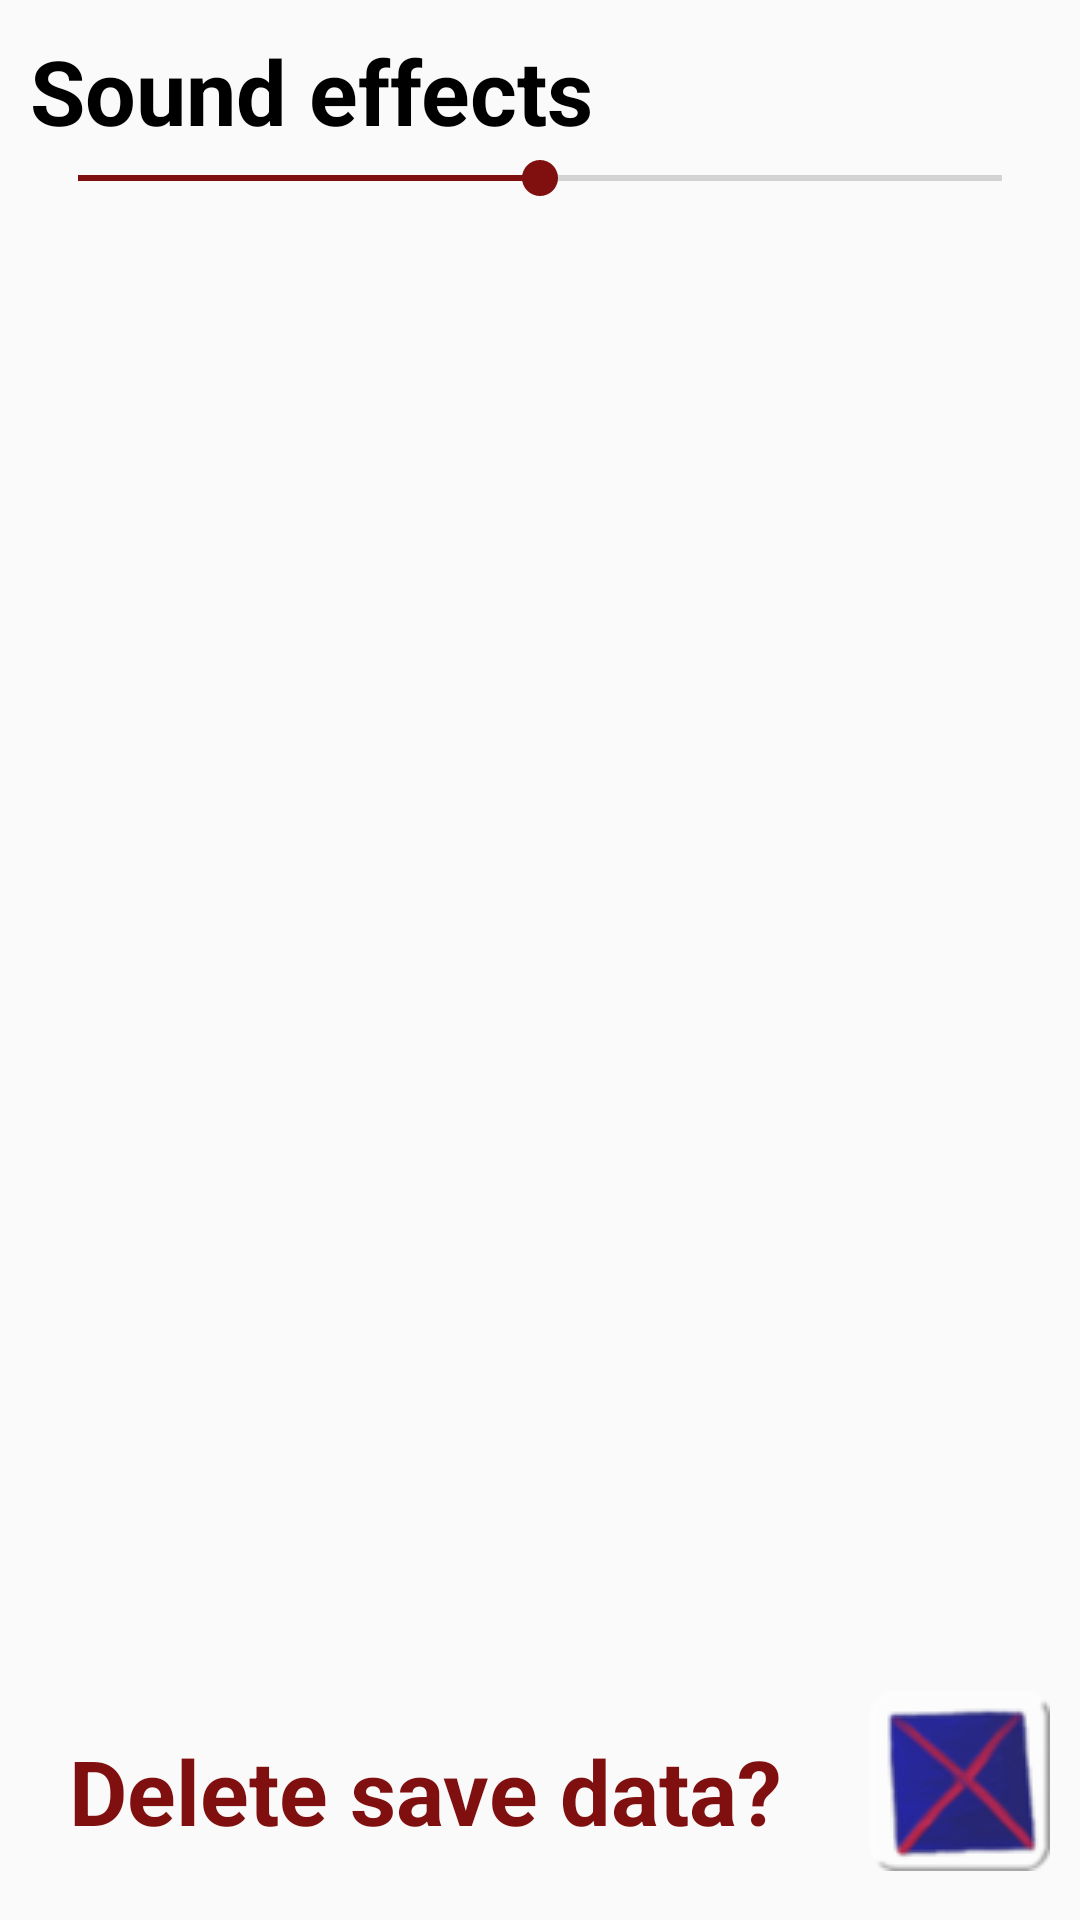

Icons on this 1080 × 1920 Android screen, each with its box as (x1, y1, x2, y2):
cross: (879, 1703, 1050, 1871)
